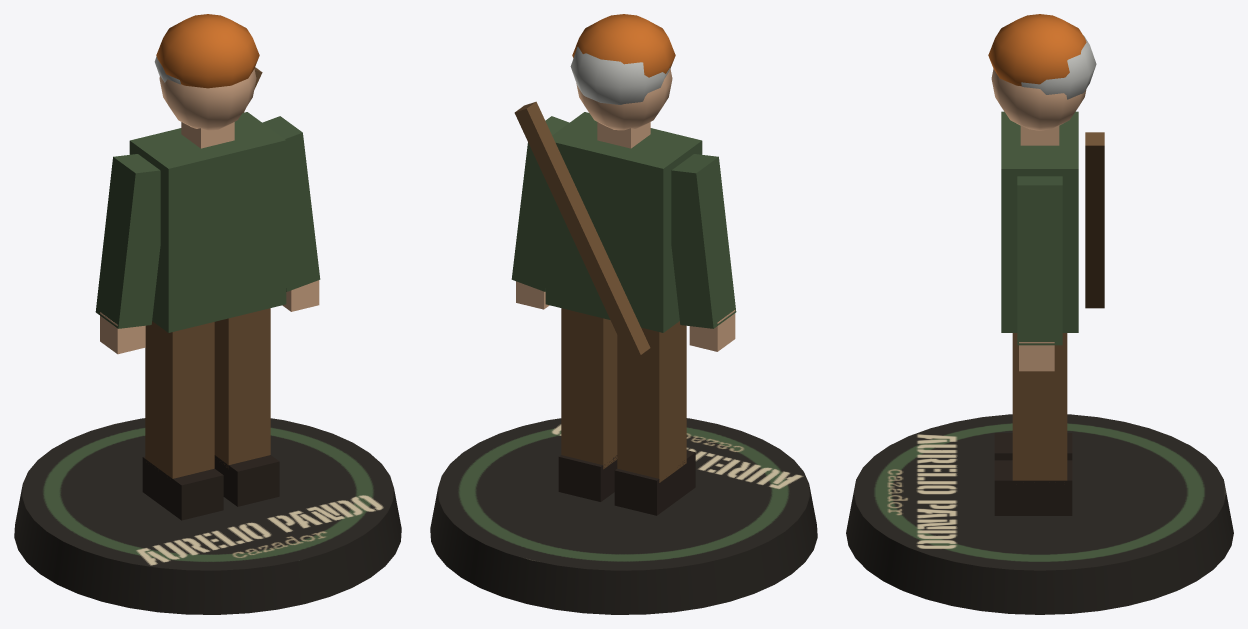
The model's file is aurelio_pando.obj.
The picture shows the model from 3 angles, left to right: view 1: azimuth 30°, elevation 25°; view 2: azimuth 150°, elevation 25°; view 3: azimuth 270°, elevation 25°; orthographic projection.
Visible parts, largest first — view 1: aurelio_pando; view 2: aurelio_pando; view 3: aurelio_pando.
Boxes of the visible parts, left/top/right/bottom form: aurelio_pando: left=14, top=14, right=401, bottom=614; aurelio_pando: left=430, top=14, right=817, bottom=614; aurelio_pando: left=846, top=14, right=1233, bottom=614.
Size of the model in its own units: 1.2 by 1.75 by 1.2.
Materials: 1 (1 with a texture image).
